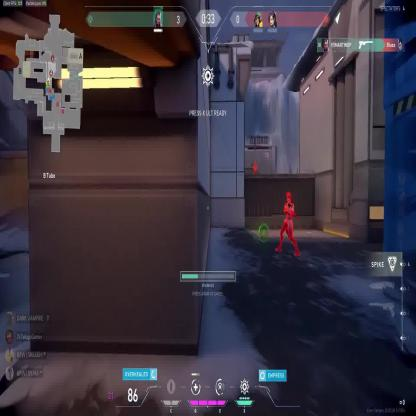enemy: (274, 191, 300, 256), (253, 160, 258, 178)
enemy_head: (286, 191, 292, 203), (254, 160, 256, 164)
